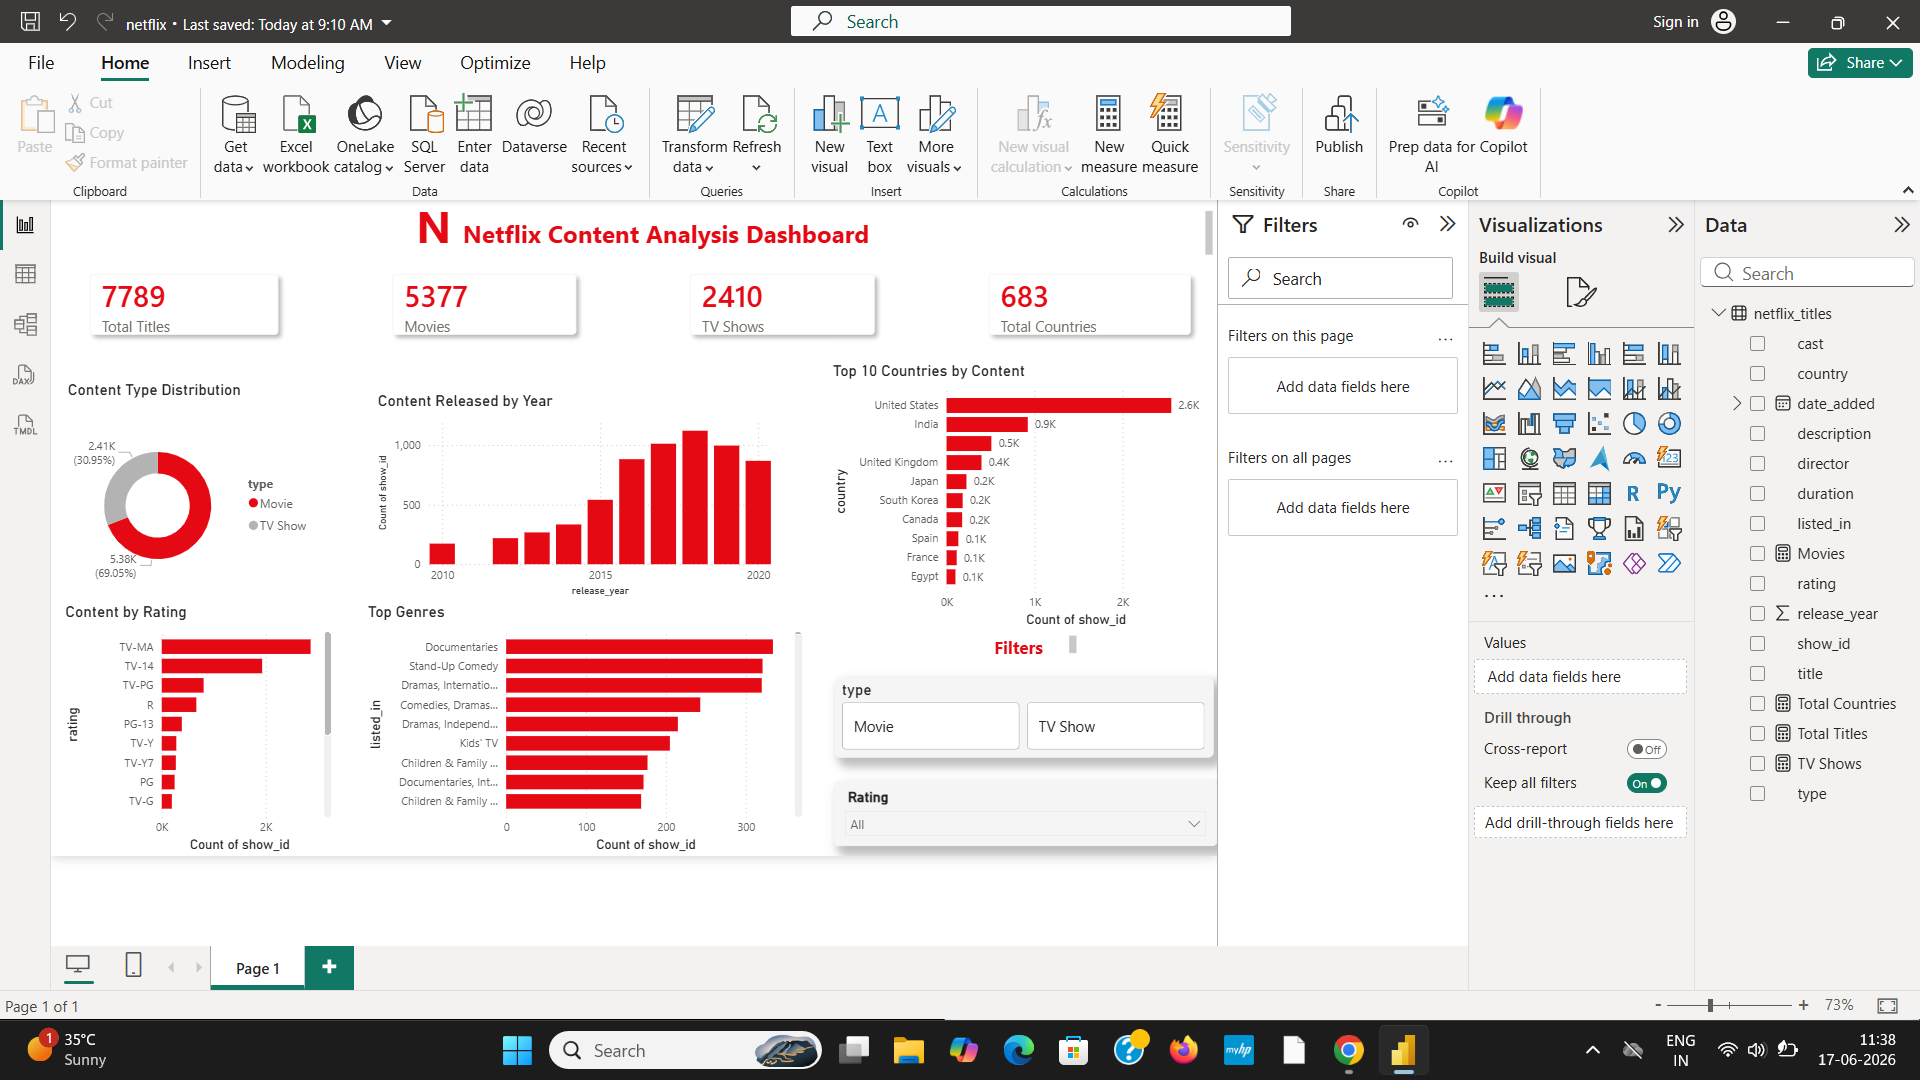

The page's visual inventory and layout, read from the dashboard file:
{"tool":"powerbi","page":{"name":"Page 1","canvas":[1280,720],"ordinal":0},"visuals":[{"type":"cardVisual","fields":{"Data":["netflix_titles.Total Titles"]},"box":[13.5,52.6,265.4,126],"z":0},{"type":"cardVisual","fields":{"Data":["netflix_titles.Movies"]},"box":[345.1,52.6,260.5,126],"z":1000},{"type":"cardVisual","fields":{"Data":["netflix_titles.Total Countries"]},"box":[1000,52.6,280,126],"z":2000},{"type":"cardVisual","fields":{"Data":["netflix_titles.TV Shows"]},"box":[671.9,52.6,261.7,126],"z":3000},{"type":"donutChart","title":"Content Type Distribution","fields":{"Category":["netflix_titles.type"],"Y":["CountNonNull(netflix_titles.show_id)"]},"box":[13.5,197.2,281.3,256.8],"z":4000},{"type":"clusteredBarChart","title":"Content by Rating","fields":{"Category":["netflix_titles.rating"],"Y":["CountNonNull(netflix_titles.show_id)"]},"box":[11,441.2,302,278.8],"z":5000},{"type":"clusteredBarChart","title":"Top 10 Countries by Content","fields":{"Category":["netflix_titles.country"],"Y":["CountNonNull(netflix_titles.show_id)"]},"box":[853.8,177.3,426.2,296.5],"z":6000},{"type":"clusteredBarChart","title":"Top Genres","fields":{"Category":["netflix_titles.listed_in"],"Y":["CountNonNull(netflix_titles.show_id)"]},"box":[342.9,441.2,486.7,278.8],"z":7000},{"type":"advancedSlicerVisual","fields":{"Values":["netflix_titles.type"]},"box":[860.4,524.2,415.8,87.8],"z":8000},{"type":"slicer","fields":{"Values":["netflix_titles.rating"]},"box":[859,638.1,421.3,71.4],"z":9000},{"type":"columnChart","title":"Content Released by Year","fields":{"Category":["netflix_titles.release_year"],"Y":["CountNonNull(netflix_titles.show_id)"]},"box":[353.5,210.6,441.4,229.9],"z":10000},{"type":"textbox","box":[0,0,1280.3,64.8],"z":11000},{"type":"textbox","box":[1030.5,473.4,100.2,31.6],"z":11001}]}

Visuals, with their boxes on the page's 1280x720 design canvas (x1, y1, x2, y2). These are canvas units, not pixel positions in the 1920x1080 screenshot, which may show the page scaled, cropped or inside an application window:
cardVisual - netflix_titles.Total Titles: 14, 53, 279, 179
cardVisual - netflix_titles.Movies: 345, 53, 606, 179
cardVisual - netflix_titles.Total Countries: 1000, 53, 1280, 179
cardVisual - netflix_titles.TV Shows: 672, 53, 934, 179
"Content Type Distribution" donutChart: 14, 197, 295, 454
"Content by Rating" clusteredBarChart: 11, 441, 313, 720
"Top 10 Countries by Content" clusteredBarChart: 854, 177, 1280, 474
"Top Genres" clusteredBarChart: 343, 441, 830, 720
advancedSlicerVisual - netflix_titles.type: 860, 524, 1276, 612
slicer - netflix_titles.rating: 859, 638, 1280, 710
"Content Released by Year" columnChart: 354, 211, 795, 440
textbox: 0, 0, 1280, 65
textbox: 1030, 473, 1131, 505
